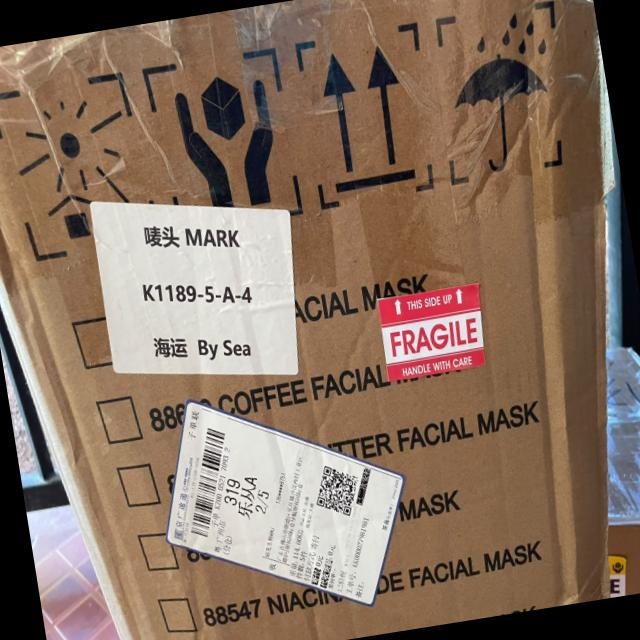carton_box: (0, 0, 640, 640)
export_mark_label: (141, 372, 424, 638)
fragile_label: (368, 270, 498, 404)
handle_with_care_label: (147, 49, 304, 233)
keep_dry_label: (436, 0, 576, 187)
protect_from_heat_label: (0, 64, 163, 257)
this_side_up_label: (288, 18, 442, 219)
